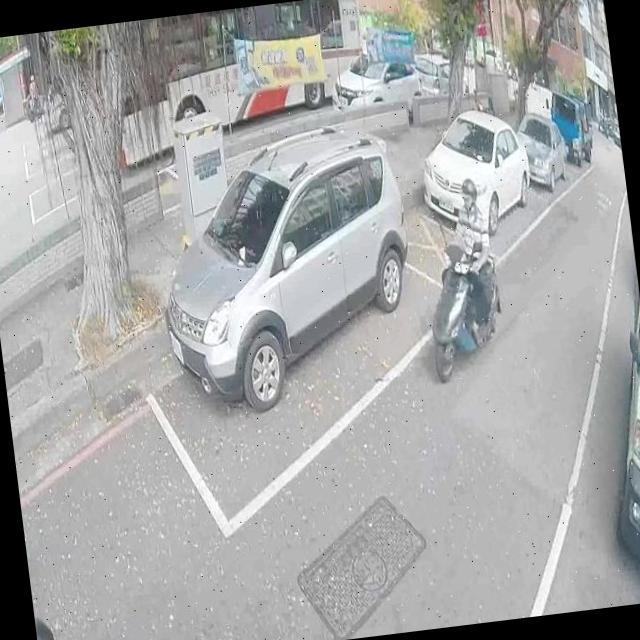person: (432, 173, 503, 346), (33, 606, 70, 640), (24, 68, 40, 118)
